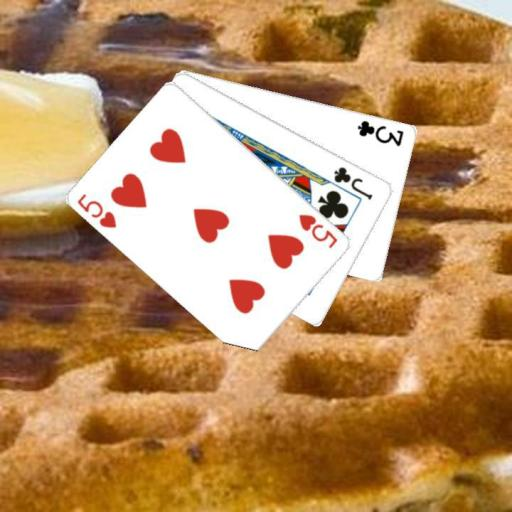3C: (355, 117, 406, 148)
5H: (296, 211, 340, 251), (75, 191, 119, 230)
JC: (331, 163, 375, 201)
